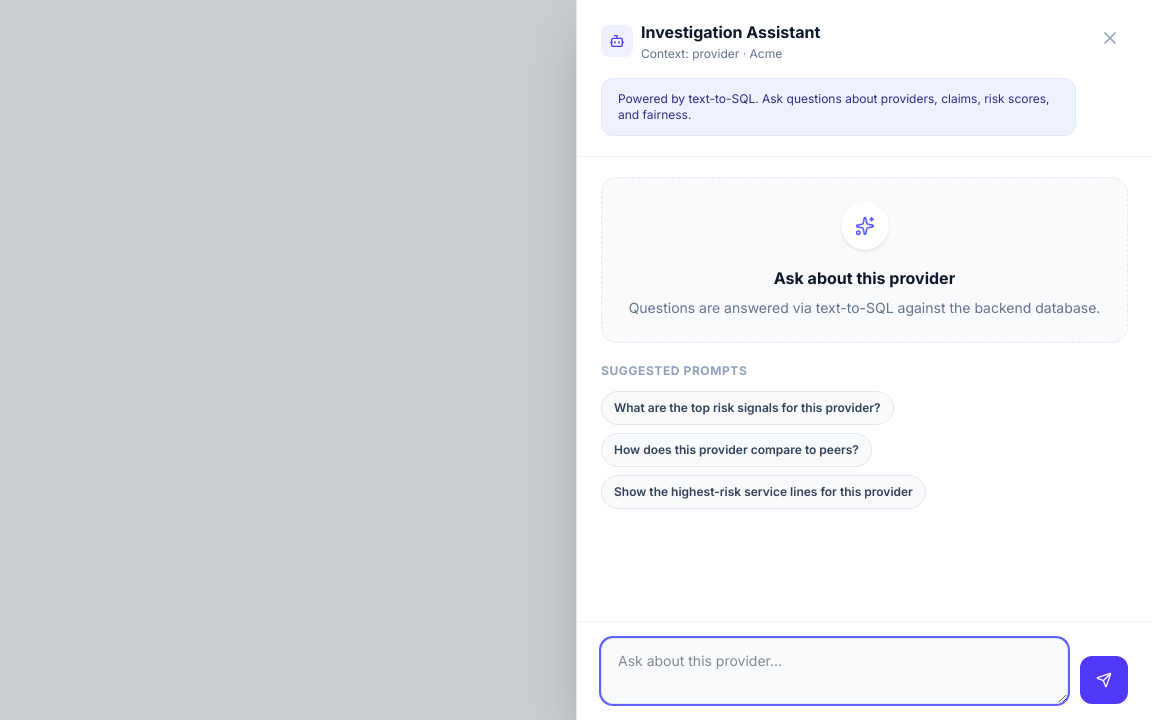
it: AssistantDrawer › clears messages when Clear Thread is clicked
In the text box with placeholder "Ask about this provider...": [834, 671] box 601,638 -> 1068,704, type "Hello"
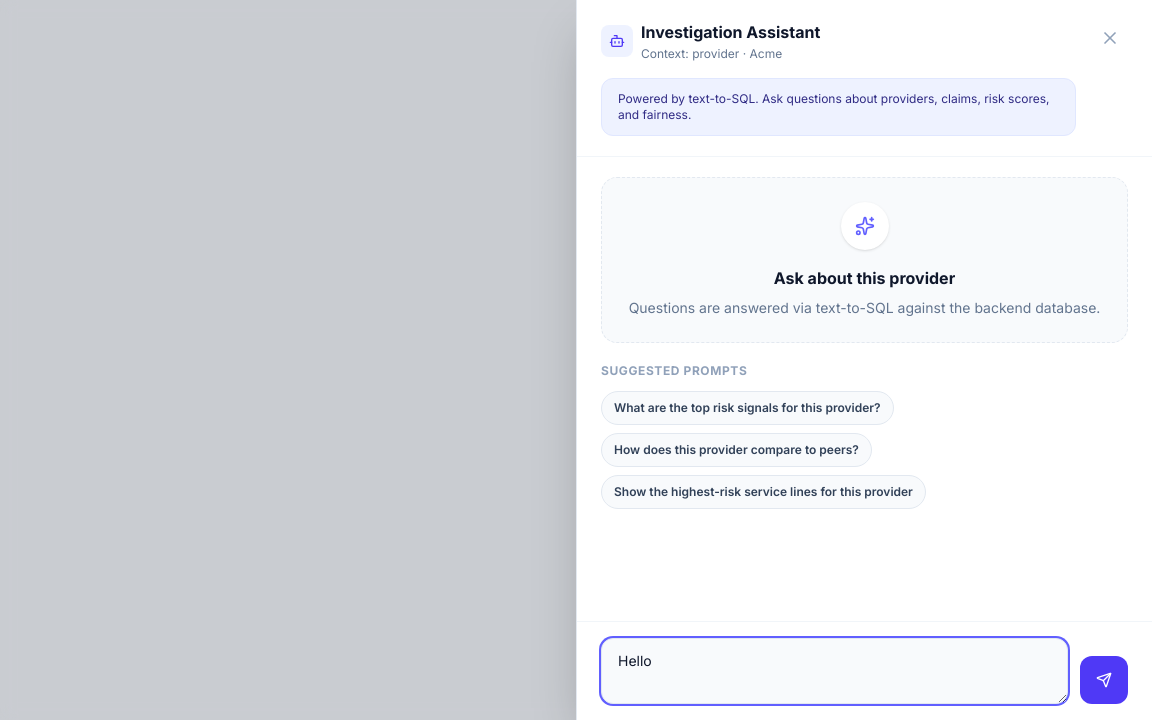
Press Enter
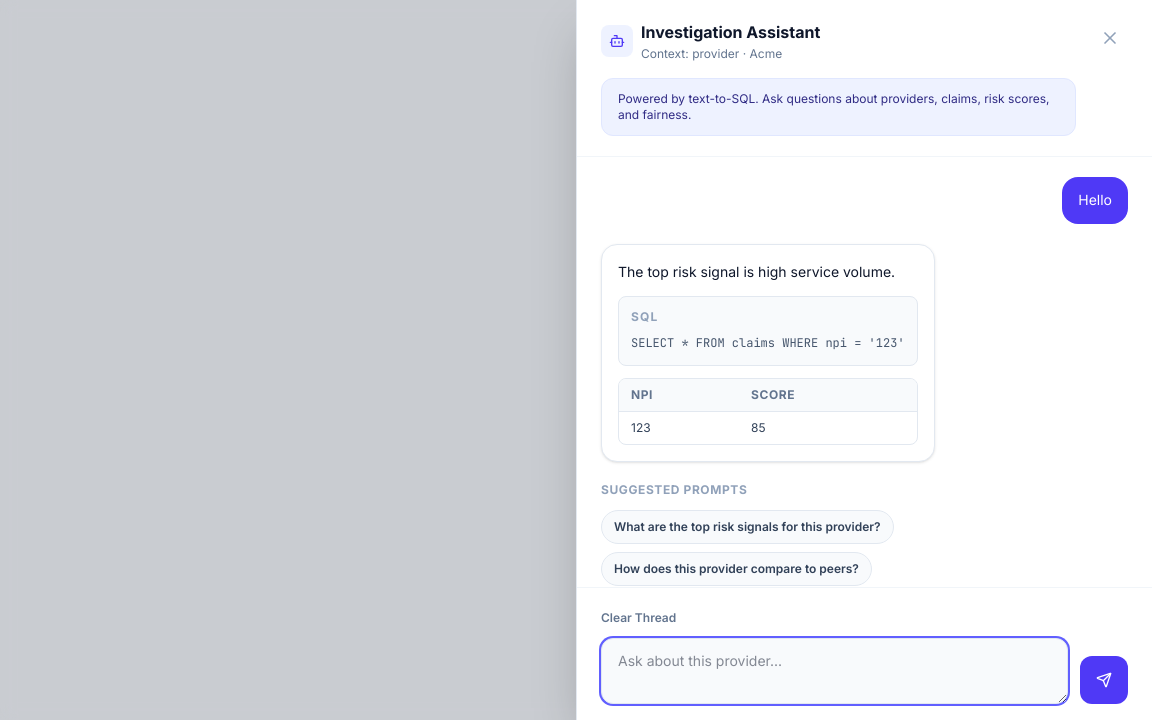
Now the text "The top risk signal is high service volume." is shown, box 618,261 -> 918,284
Click the button "Clear Thread": [639, 618] box 601,610 -> 676,626
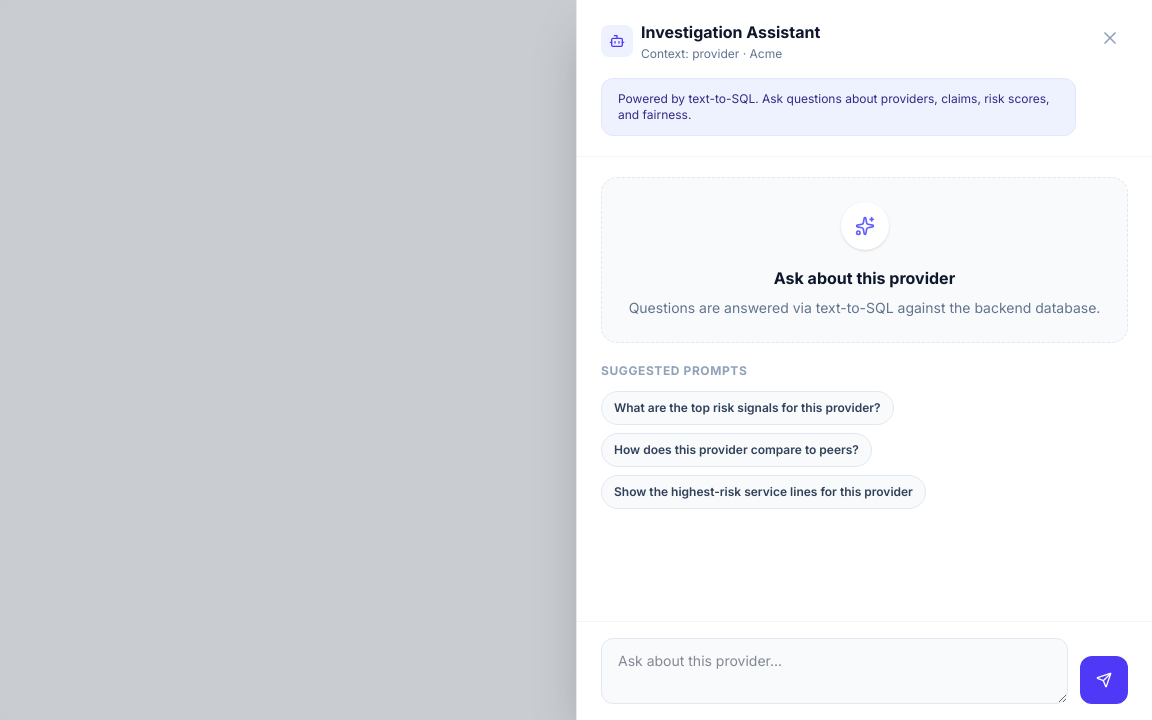
Now the text "The top risk signal is high service volume." is gone
